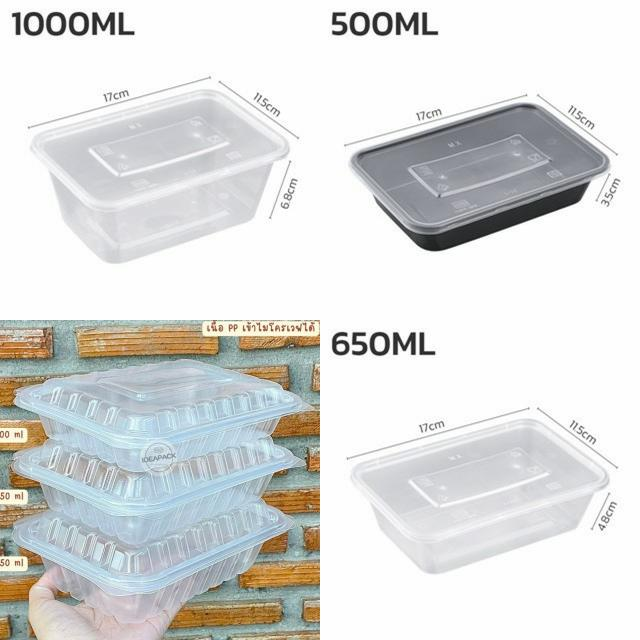Single-Use-Plastic: (32, 90, 289, 262), (351, 409, 614, 573), (351, 104, 609, 248), (12, 499, 294, 622), (15, 360, 308, 471), (11, 436, 304, 543)
